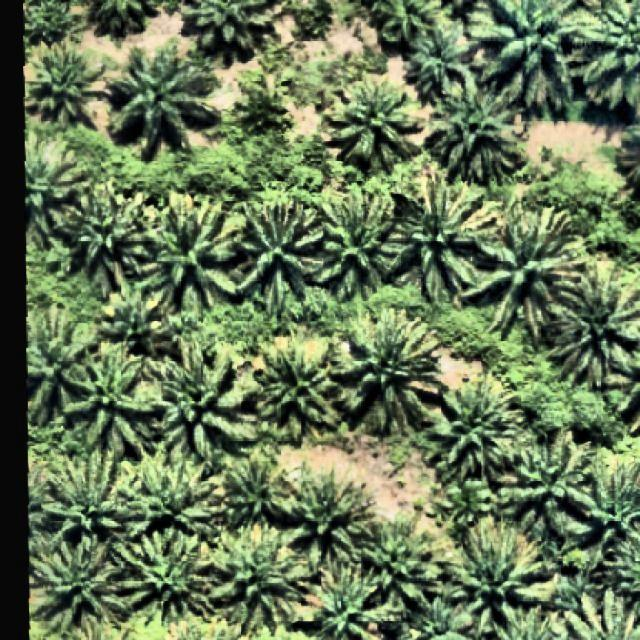Kelapa_Sawit: (458, 201, 580, 347), (386, 170, 500, 304), (334, 306, 448, 434), (151, 336, 260, 467), (106, 37, 220, 160), (140, 188, 242, 312), (58, 342, 160, 464), (496, 423, 602, 540), (424, 70, 528, 186), (447, 517, 544, 640), (64, 180, 158, 300), (204, 524, 310, 630), (318, 178, 411, 298), (430, 370, 524, 488), (324, 74, 426, 178), (236, 198, 329, 312), (113, 524, 219, 624), (254, 328, 344, 444), (284, 456, 373, 572), (30, 534, 128, 638), (114, 452, 222, 546), (354, 510, 446, 615), (24, 34, 107, 126), (42, 445, 122, 538), (402, 22, 480, 108), (223, 446, 292, 532)
